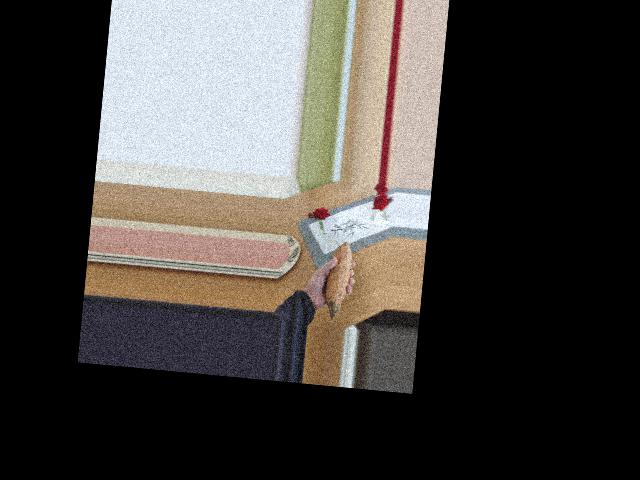sweet_potato: (316, 237, 357, 317)
